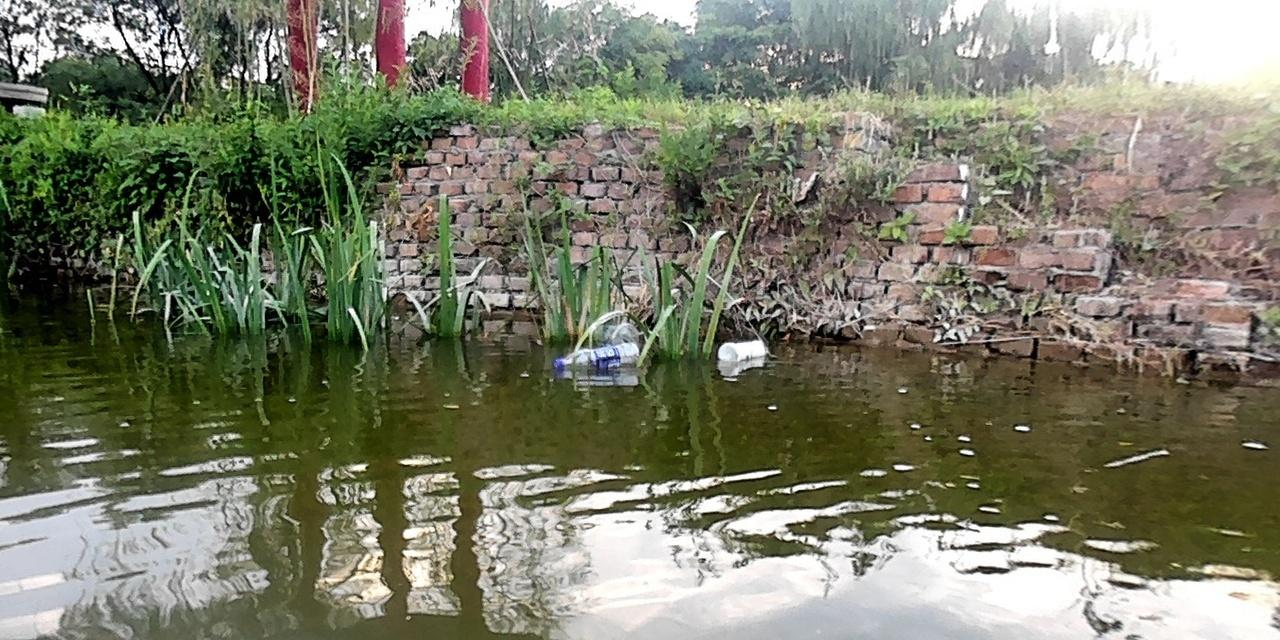bottle: (549, 338, 642, 373), (714, 335, 770, 363)
